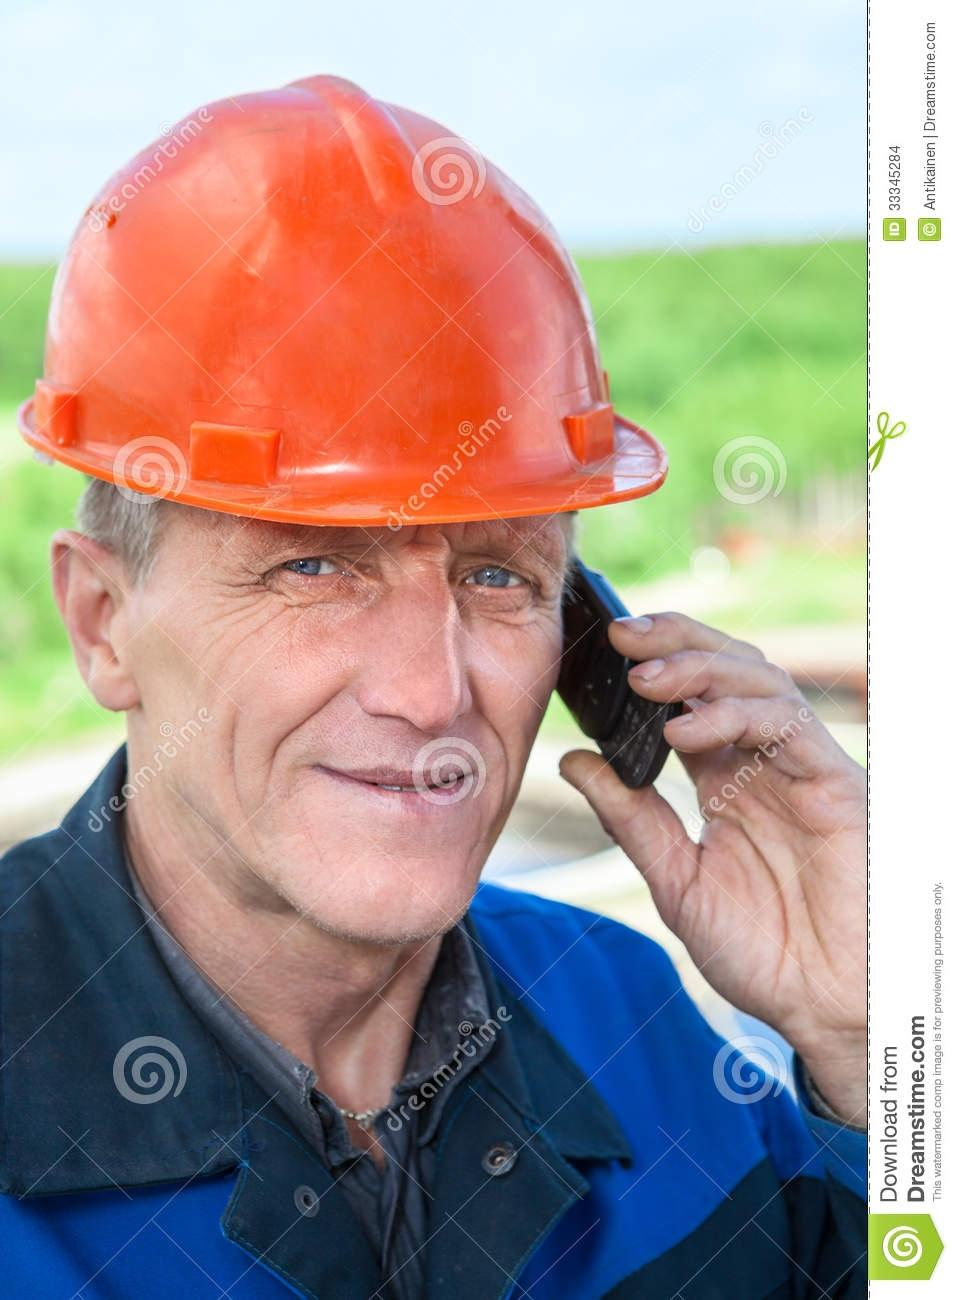helmet: (15, 65, 676, 522)
no_wear: (5, 947, 863, 1300)
